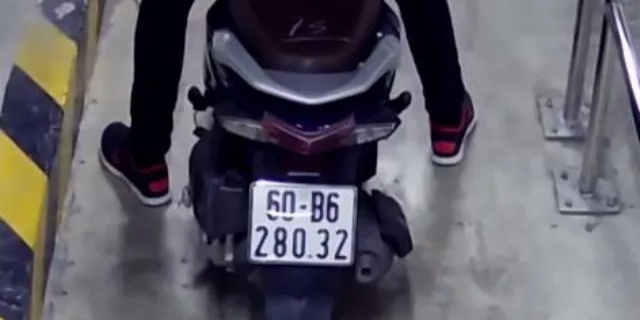bien_so: (247, 179, 355, 266)
